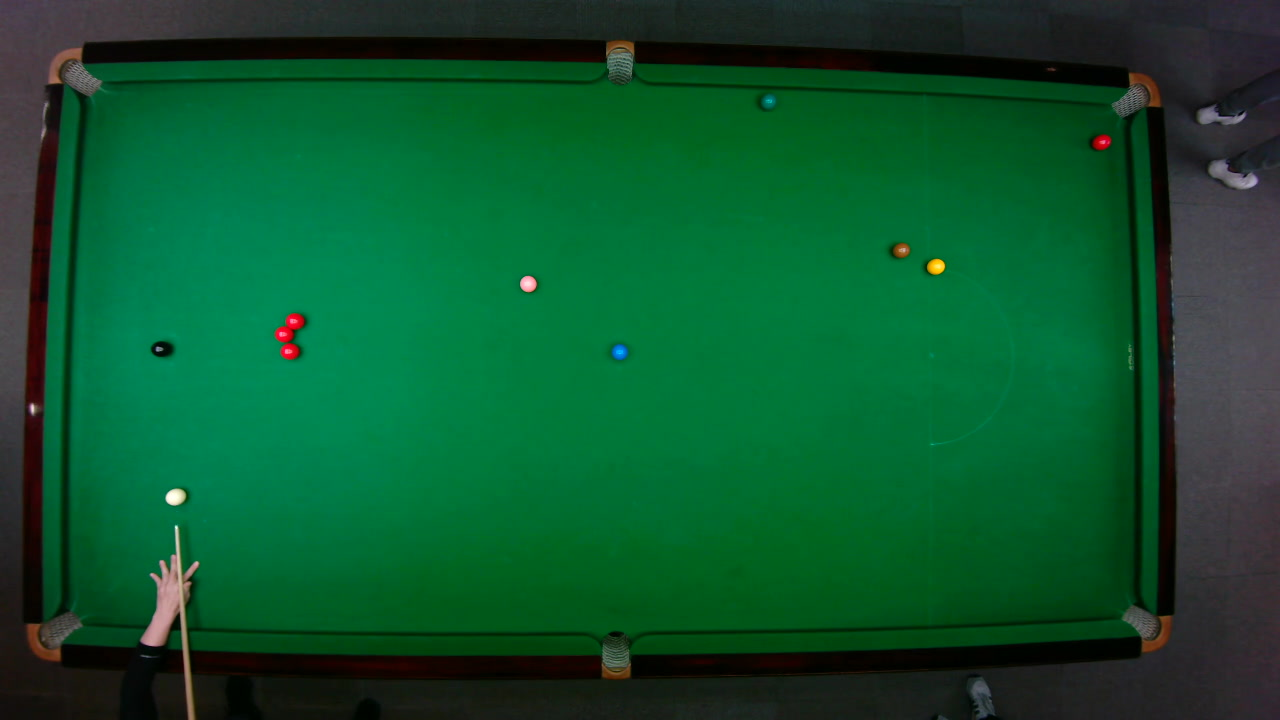bag: (24, 609, 83, 661), (45, 46, 102, 96), (1119, 603, 1172, 652), (1109, 71, 1161, 118), (600, 629, 630, 680), (605, 38, 633, 85)
black: (149, 339, 172, 357)
blue: (610, 342, 628, 360)
brown: (890, 241, 911, 258)
cue: (172, 519, 195, 720)
green: (759, 92, 776, 110)
pink: (517, 274, 537, 293)
red: (284, 311, 305, 330), (278, 342, 300, 360), (1090, 132, 1112, 150), (272, 324, 293, 342)
white: (163, 486, 187, 505)
yellow: (925, 256, 946, 275)
zone: (927, 265, 1013, 445)
